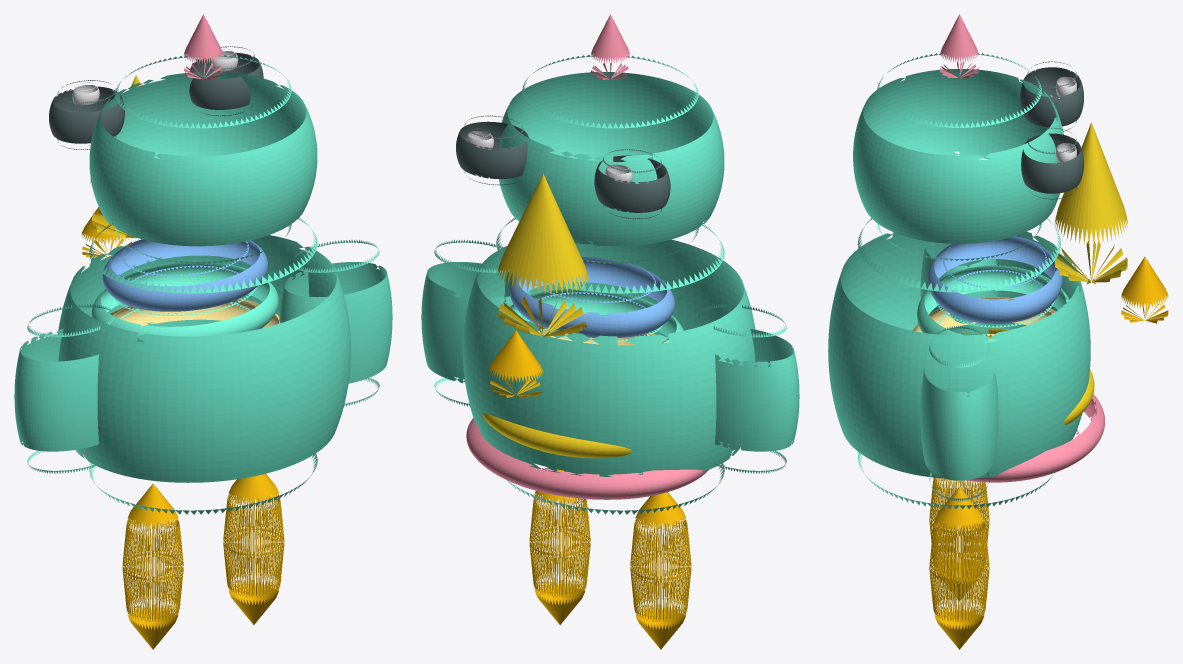
File: tiko.glb
3 views of the same model, side by side, from view 1: azimuth 30°, elevation 25°; view 2: azimuth 150°, elevation 25°; view 3: azimuth 270°, elevation 25° (orthographic).
Parts seen in each view (by area): view 1: tiko_body, tiko_head, tiko_wing_l, tiko_leg_l, tiko_leg_r, tiko_wing_r, tiko_rainbow4, tiko_rainbow3, tiko_eye_l, tiko_eye_r, tiko_rainbow2, tiko_crest (+1 smaller); view 2: tiko_body, tiko_head, tiko_wing_l, tiko_beak, tiko_leg_l, tiko_leg_r, tiko_rainbow4, tiko_wing_r, tiko_rainbow0, tiko_eye_r, tiko_eye_l, tiko_rainbow1 (+3 smaller); view 3: tiko_body, tiko_head, tiko_wing_r, tiko_leg_r, tiko_rainbow4, tiko_beak, tiko_rainbow3, tiko_leg_l, tiko_rainbow0, tiko_eye_l, tiko_eye_r, tiko_beak_tip (+4 smaller).
Part boxes in pixels (x1,y1,x2,y2): tiko_body: (58, 218, 350, 514); tiko_head: (89, 55, 317, 264); tiko_wing_l: (14, 304, 115, 473); tiko_leg_l: (122, 483, 183, 649); tiko_leg_r: (223, 473, 284, 624); tiko_wing_r: (279, 240, 392, 406); tiko_rainbow4: (102, 239, 267, 313); tiko_rainbow3: (92, 261, 278, 342); tiko_eye_l: (49, 80, 124, 149); tiko_eye_r: (189, 46, 263, 116); tiko_rainbow2: (110, 298, 279, 328); tiko_crest: (184, 14, 222, 80); tiko_body: (463, 218, 755, 514); tiko_head: (498, 55, 724, 264); tiko_wing_l: (698, 304, 799, 473); tiko_beak: (497, 173, 588, 336); tiko_leg_l: (630, 492, 691, 649); tiko_leg_r: (529, 469, 590, 624); tiko_rainbow4: (509, 254, 674, 337); tiko_wing_r: (421, 240, 534, 406); tiko_rainbow0: (466, 418, 708, 499); tiko_eye_r: (456, 115, 528, 185); tiko_eye_l: (594, 149, 670, 218); tiko_rainbow1: (482, 413, 632, 458); tiko_body: (828, 218, 1090, 509); tiko_head: (853, 53, 1063, 260); tiko_wing_r: (920, 325, 998, 501); tiko_leg_r: (929, 487, 989, 649); tiko_rainbow4: (927, 235, 1062, 324); tiko_beak: (1054, 122, 1127, 284); tiko_rainbow3: (917, 265, 1069, 342); tiko_leg_l: (929, 477, 989, 601); tiko_rainbow0: (966, 394, 1104, 482); tiko_eye_l: (1020, 61, 1083, 132); tiko_eye_r: (1021, 128, 1083, 199); tiko_beak_tip: (1121, 256, 1168, 323).
Bounding box in the file's own units: 1.18 × 1.89 × 0.9556.
